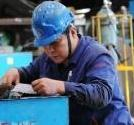gloves: (0, 76, 9, 93)
hard-hat: (31, 0, 74, 47)
ppe-suit: (0, 0, 67, 118)
